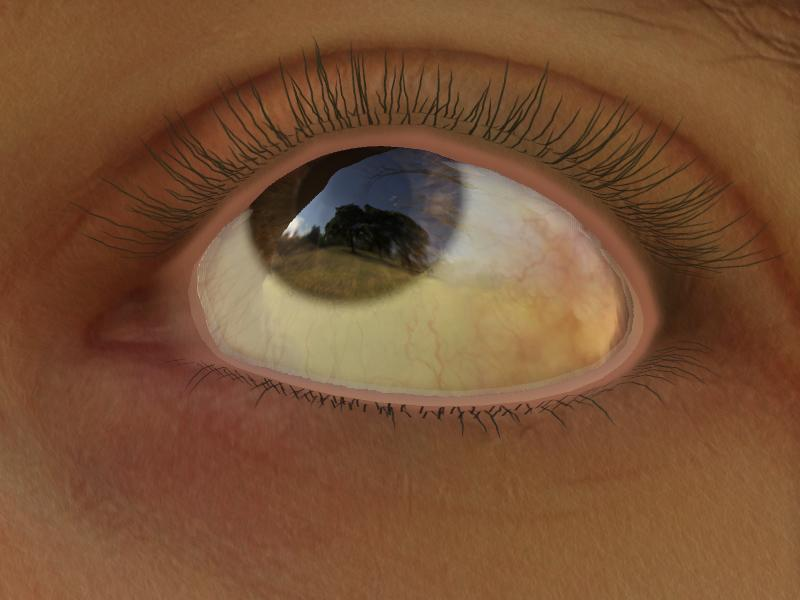eye: (249, 145, 465, 303)
